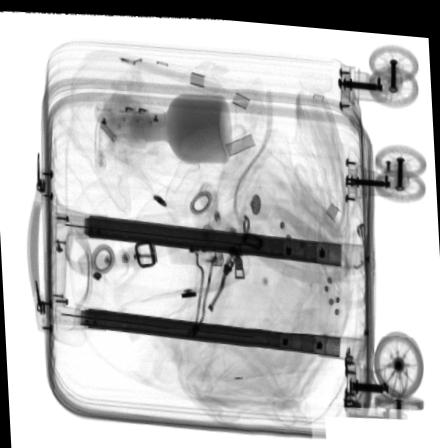Lighter: (167, 241, 225, 263)
